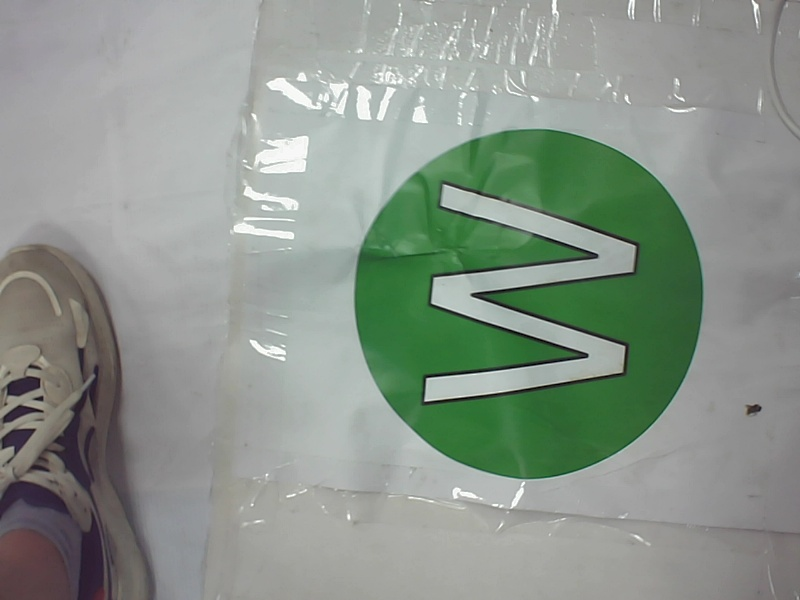areaB: (339, 117, 722, 491)
